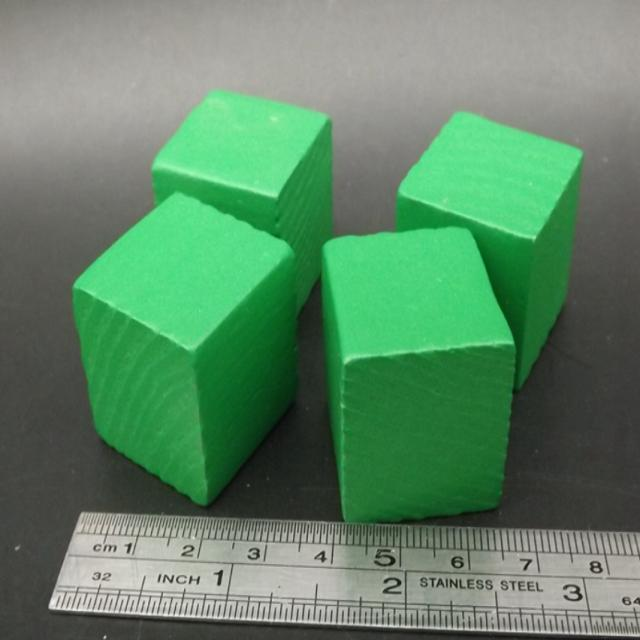green cube: (73, 190, 301, 511), (321, 223, 517, 525), (396, 109, 587, 394), (151, 86, 334, 316)
